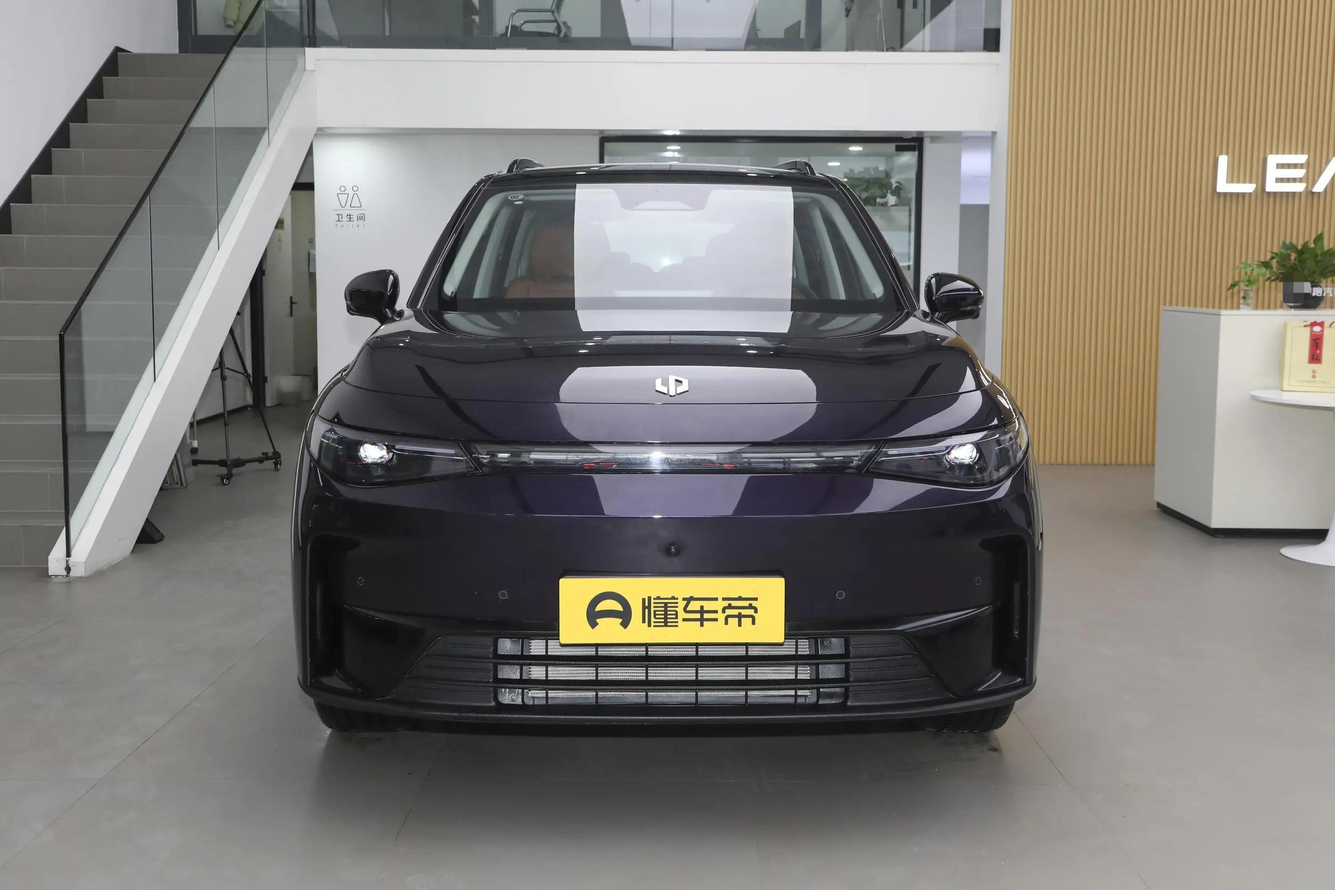LEAPMOTOR: (654, 374, 690, 397)
